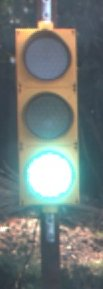Green: (14, 16, 81, 220)
